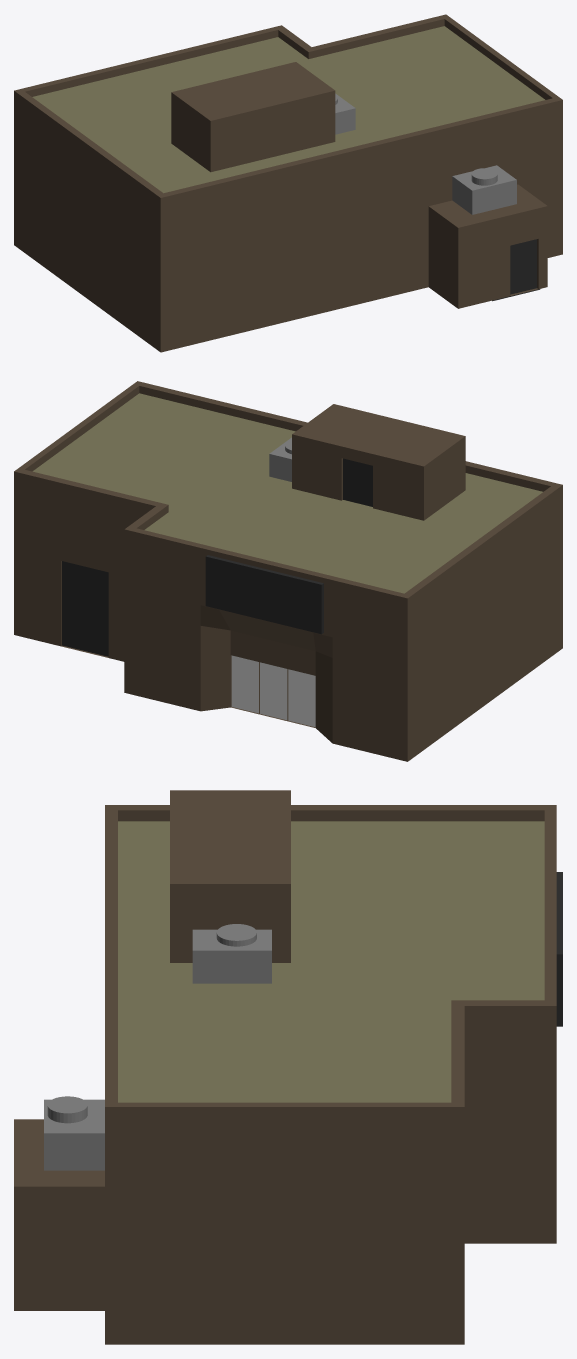
Rendered from BuildingB_01.fbx.
The picture shows the model from 3 angles, top to bottom: view 1: azimuth 30°, elevation 25°; view 2: azimuth 150°, elevation 25°; view 3: azimuth 270°, elevation 25°; orthographic projection. The views are drawn at different scales.
Parts seen in each view (by area): view 1: Building, Portes.005, Portes.004, Cube.002, Portes.003, Cube.001; view 2: Building, Portes.005, Portes.004, Pancarte, Portes, Portes.001, Pancarte.001, Cube.001; view 3: Building, Portes.005, Portes.004, Cube.001, Cube.002, Pancarte, Cylinder.001, Cylinder.
Part boxes in pixels (box(x1,y1,x2,y2)): Building: box(14, 14, 562, 352); Portes.005: box(32, 37, 411, 193); Portes.004: box(301, 26, 544, 132); Cube.002: box(452, 165, 516, 214); Portes.003: box(492, 239, 540, 301); Cube.001: box(335, 93, 355, 134); Building: box(14, 381, 562, 761); Portes.005: box(144, 430, 542, 593); Portes.004: box(32, 393, 289, 514); Pancarte: box(205, 555, 323, 634); Portes: box(231, 655, 315, 727); Portes.001: box(62, 561, 108, 656); Pancarte.001: box(343, 458, 372, 506); Cube.001: box(269, 437, 291, 481); Building: box(14, 790, 556, 1344); Portes.005: box(118, 821, 544, 1012); Portes.004: box(118, 1006, 451, 1102); Cube.001: box(192, 929, 271, 983); Cube.002: box(44, 1099, 104, 1170); Pancarte: box(556, 872, 562, 1026); Cylinder.001: box(47, 1096, 87, 1123); Cylinder: box(216, 924, 256, 946).
Size of the model in its own units: 2878 by 1375 by 2211.
